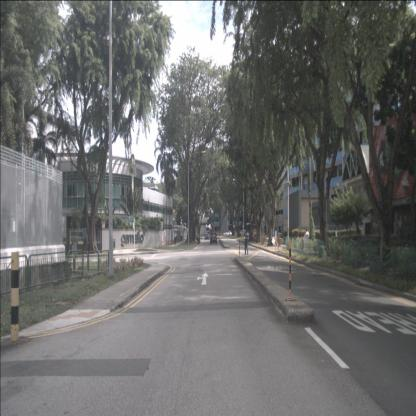human-pedestrian-adult: (244, 232, 249, 254), (305, 228, 309, 249), (334, 228, 338, 248), (174, 230, 177, 245)
vehicle-car: (210, 232, 218, 244), (239, 229, 248, 236), (204, 233, 210, 240), (206, 230, 210, 238)
